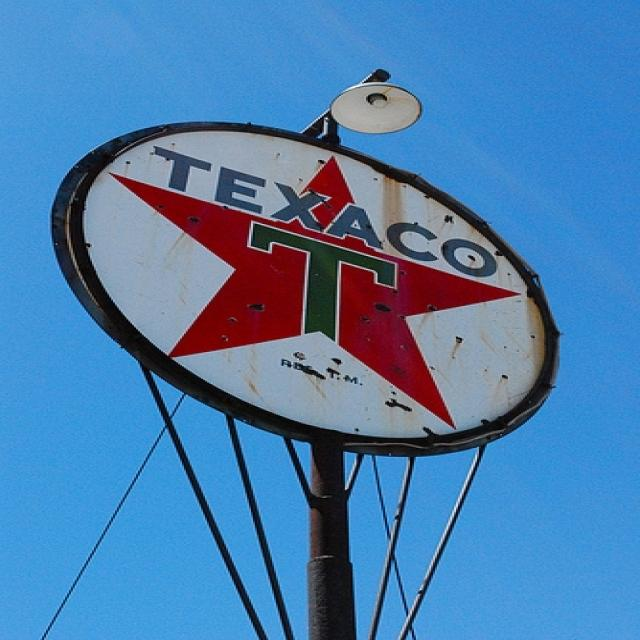texaco: (80, 130, 549, 440)
